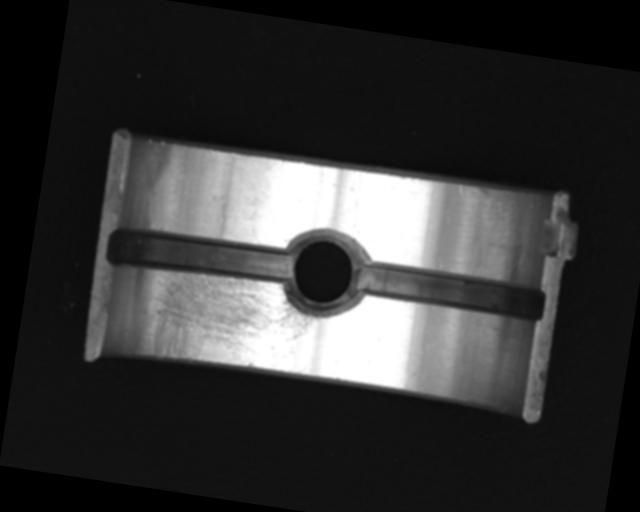gap: (104, 222, 297, 290), (354, 258, 547, 325)
hole: (278, 225, 372, 321)
scratch: (131, 263, 320, 380)
